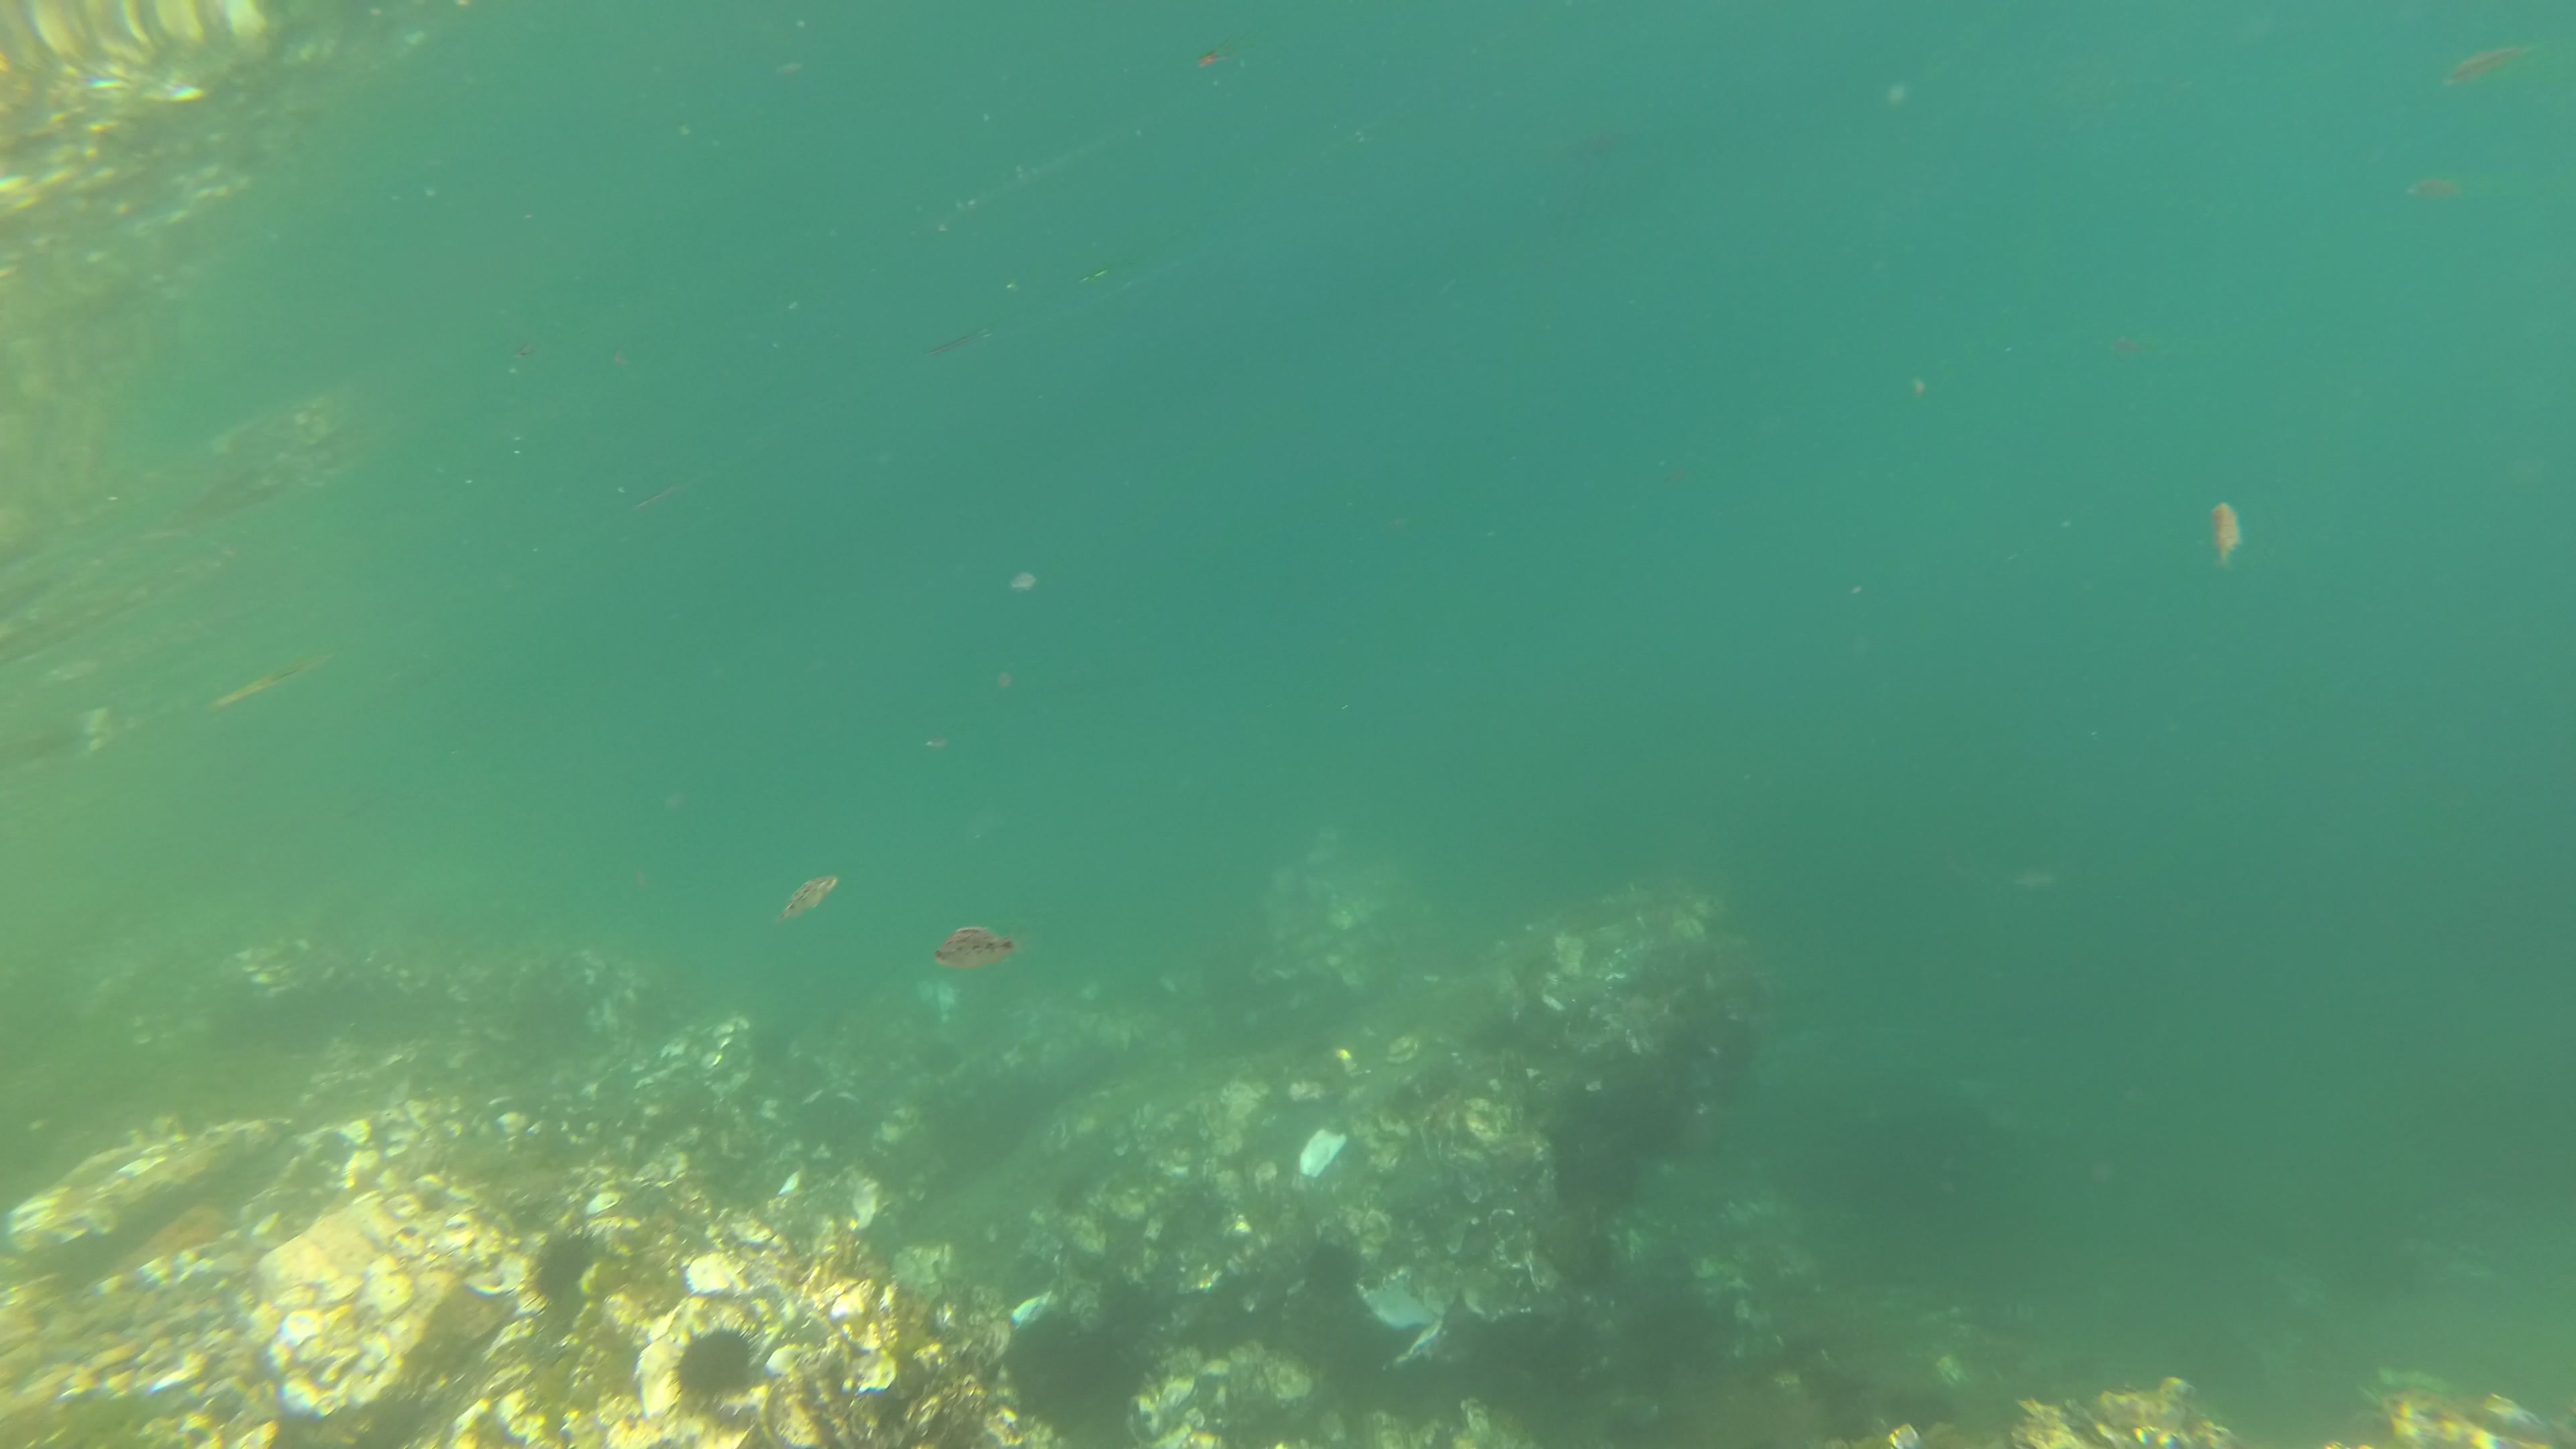echinus: (681, 1320, 757, 1405), (527, 1226, 602, 1302)
